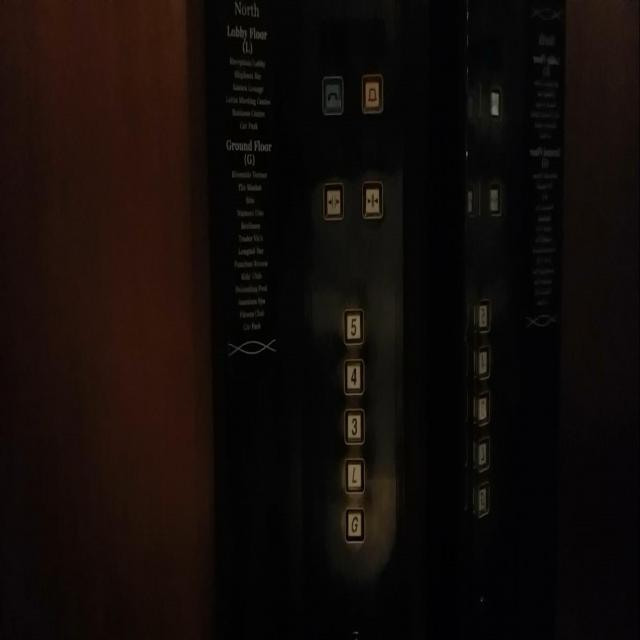3: (341, 402, 366, 448)
4: (341, 354, 366, 398)
5: (341, 304, 366, 348)
G: (342, 502, 367, 546)
L: (342, 454, 367, 498)
alarm: (359, 70, 384, 116)
call: (320, 73, 346, 119)
close: (359, 176, 385, 222)
open: (320, 178, 346, 224)
unknown: (472, 335, 494, 385), (470, 432, 492, 476), (470, 478, 492, 521), (471, 388, 493, 430), (472, 292, 492, 336)
